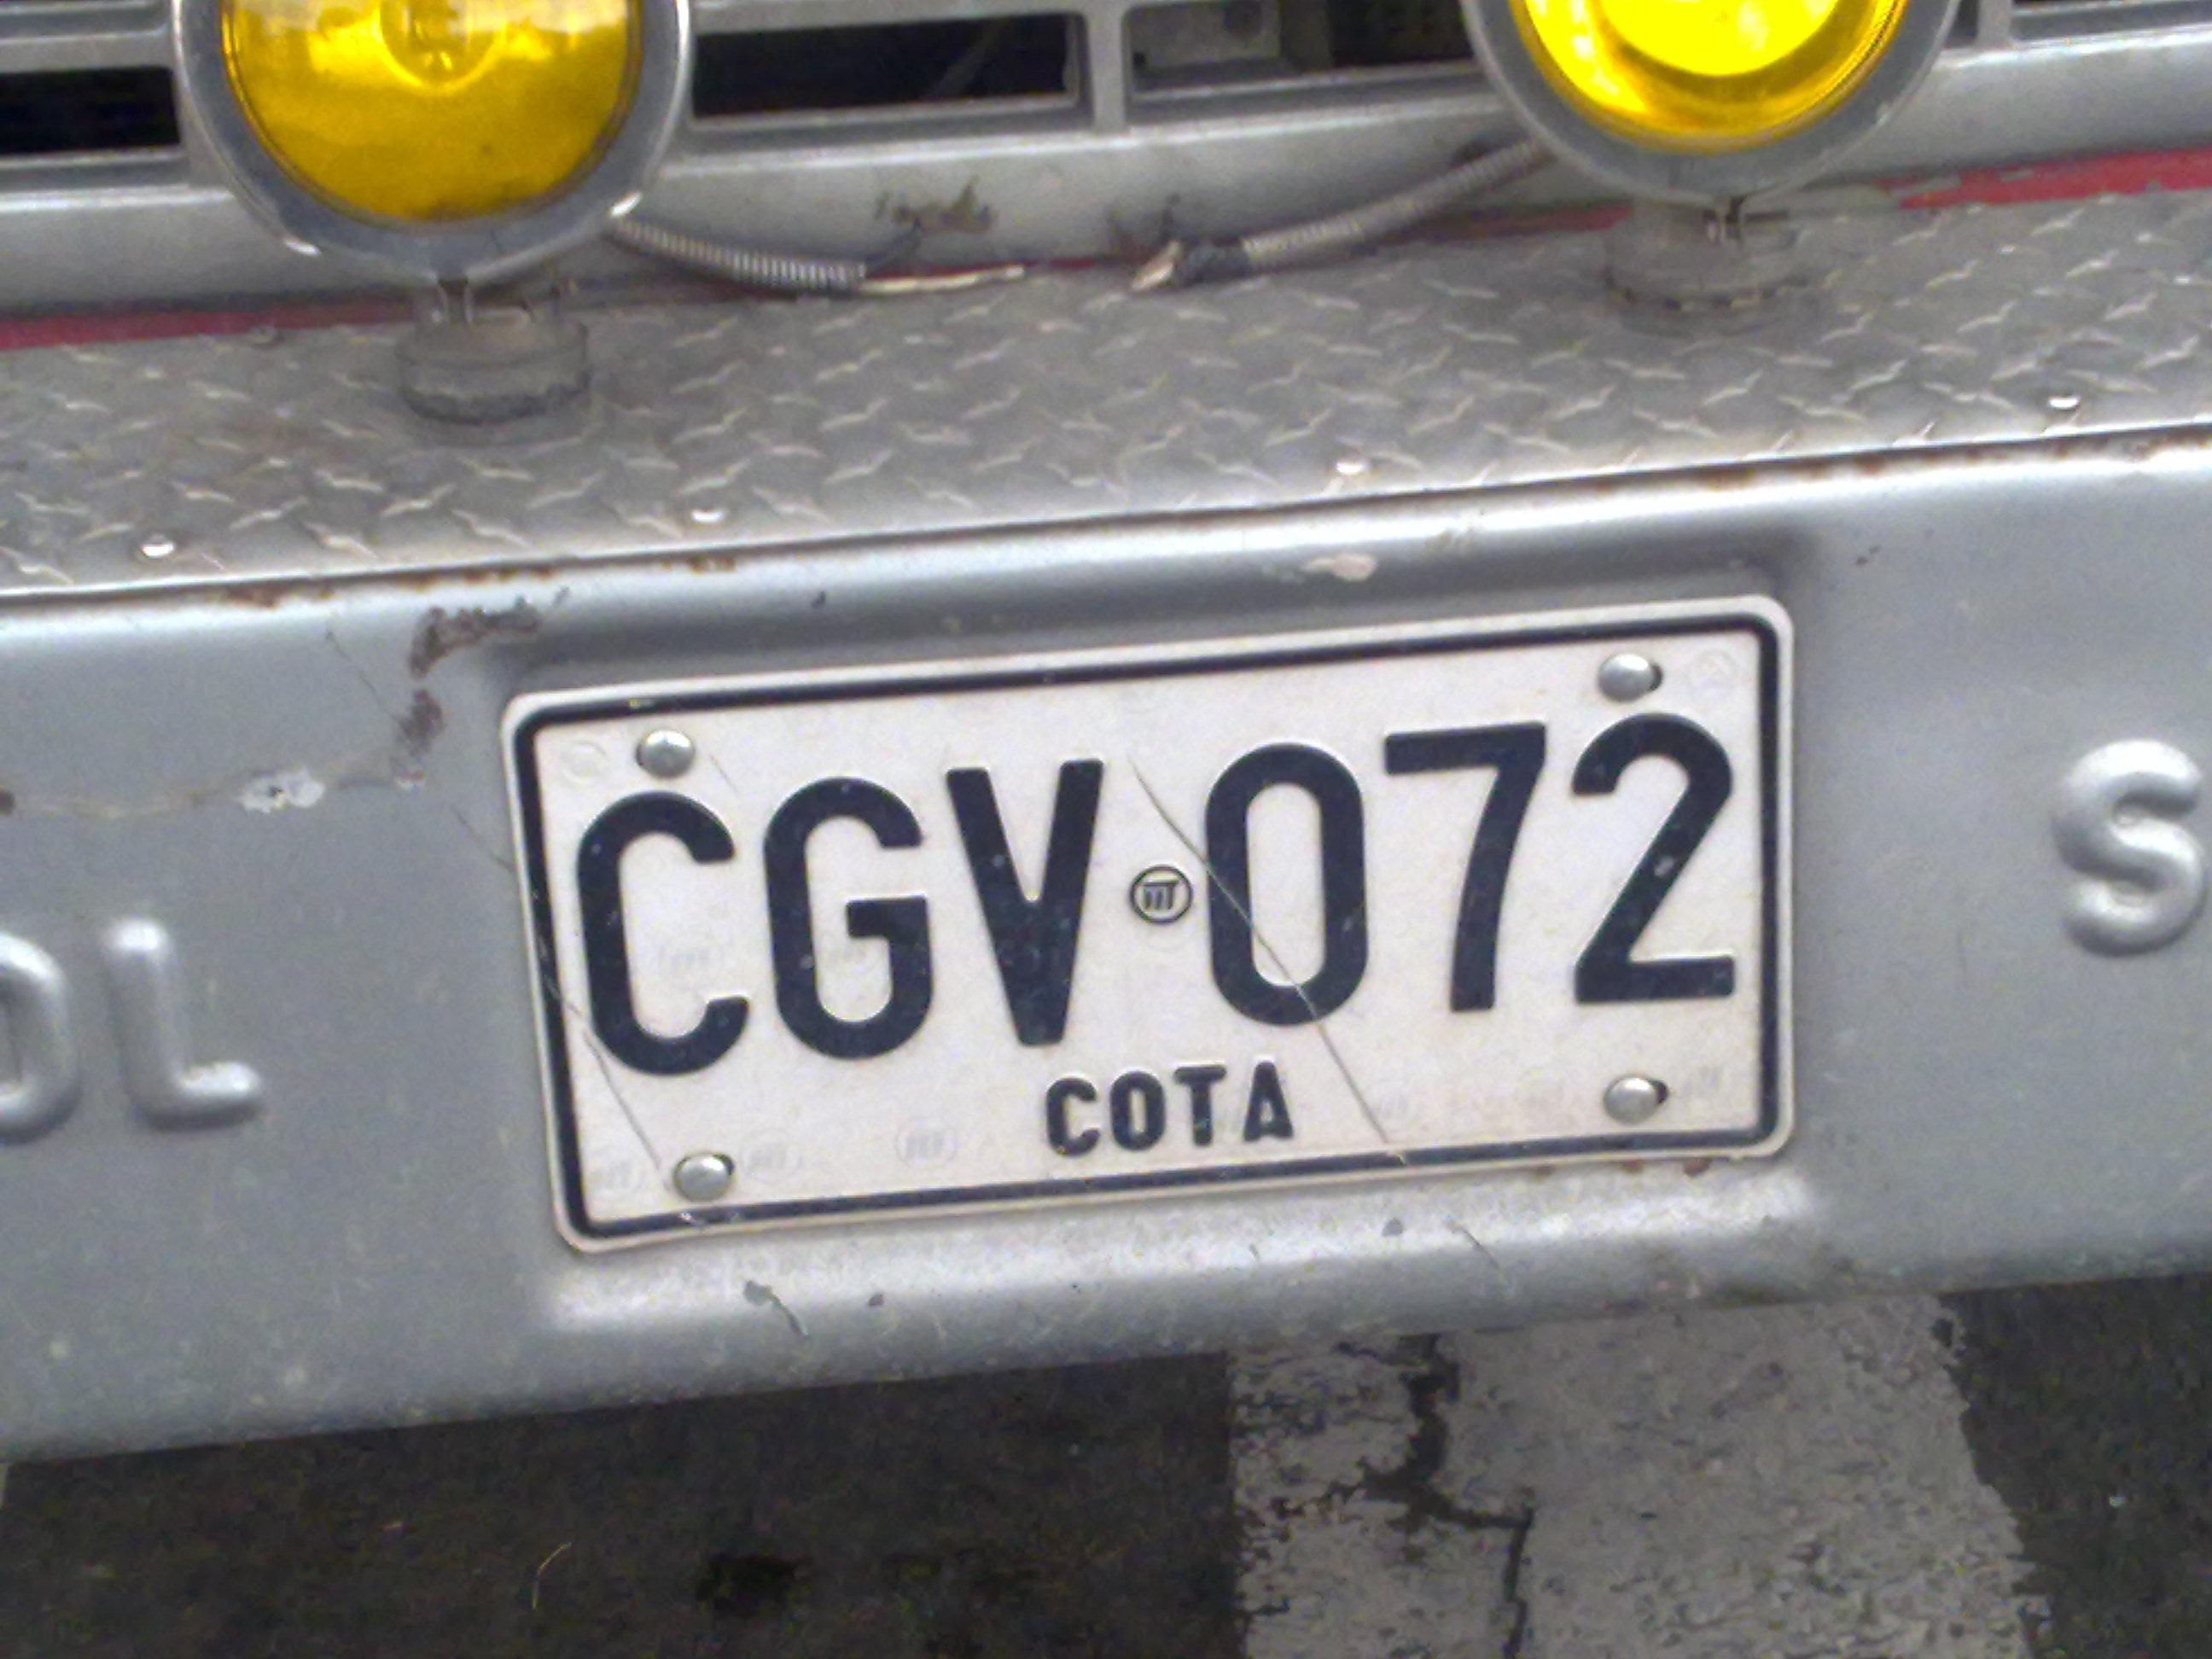placas: (492, 581, 1802, 1263)
